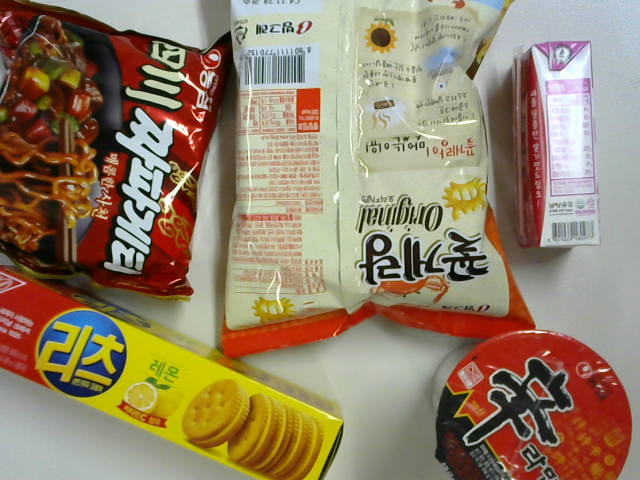Crabrang: (219, 2, 539, 352)
Ritz_Remon_96g: (1, 260, 353, 480)
Sichuan_Chapaghetti: (3, 6, 213, 302)
Sinramen_small: (423, 326, 635, 480)
Strawberry_E_Mong: (515, 32, 605, 254)
